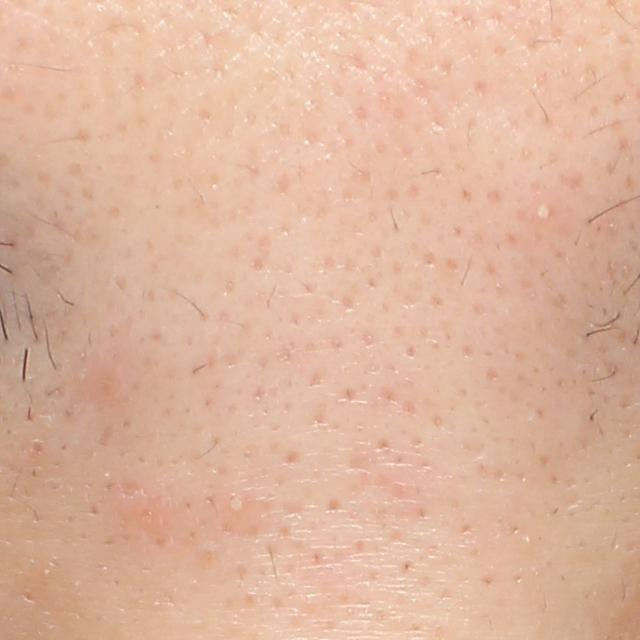pustule: (532, 200, 557, 226)
